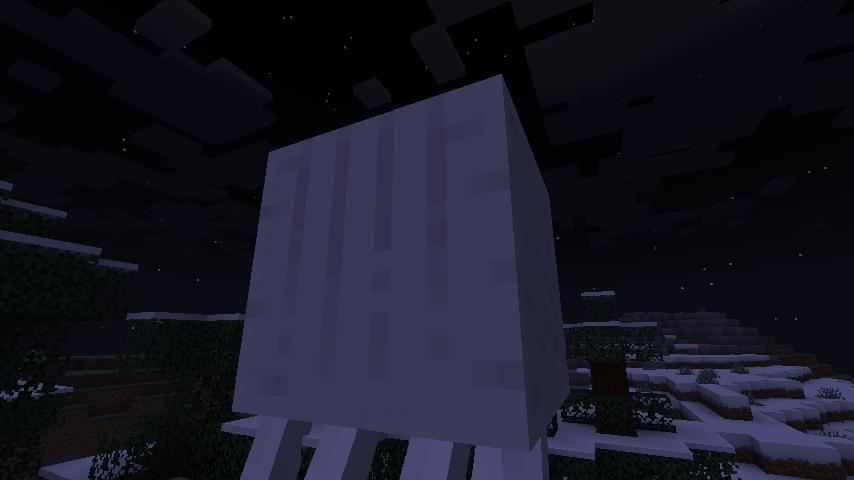ghast: (229, 73, 574, 480)
